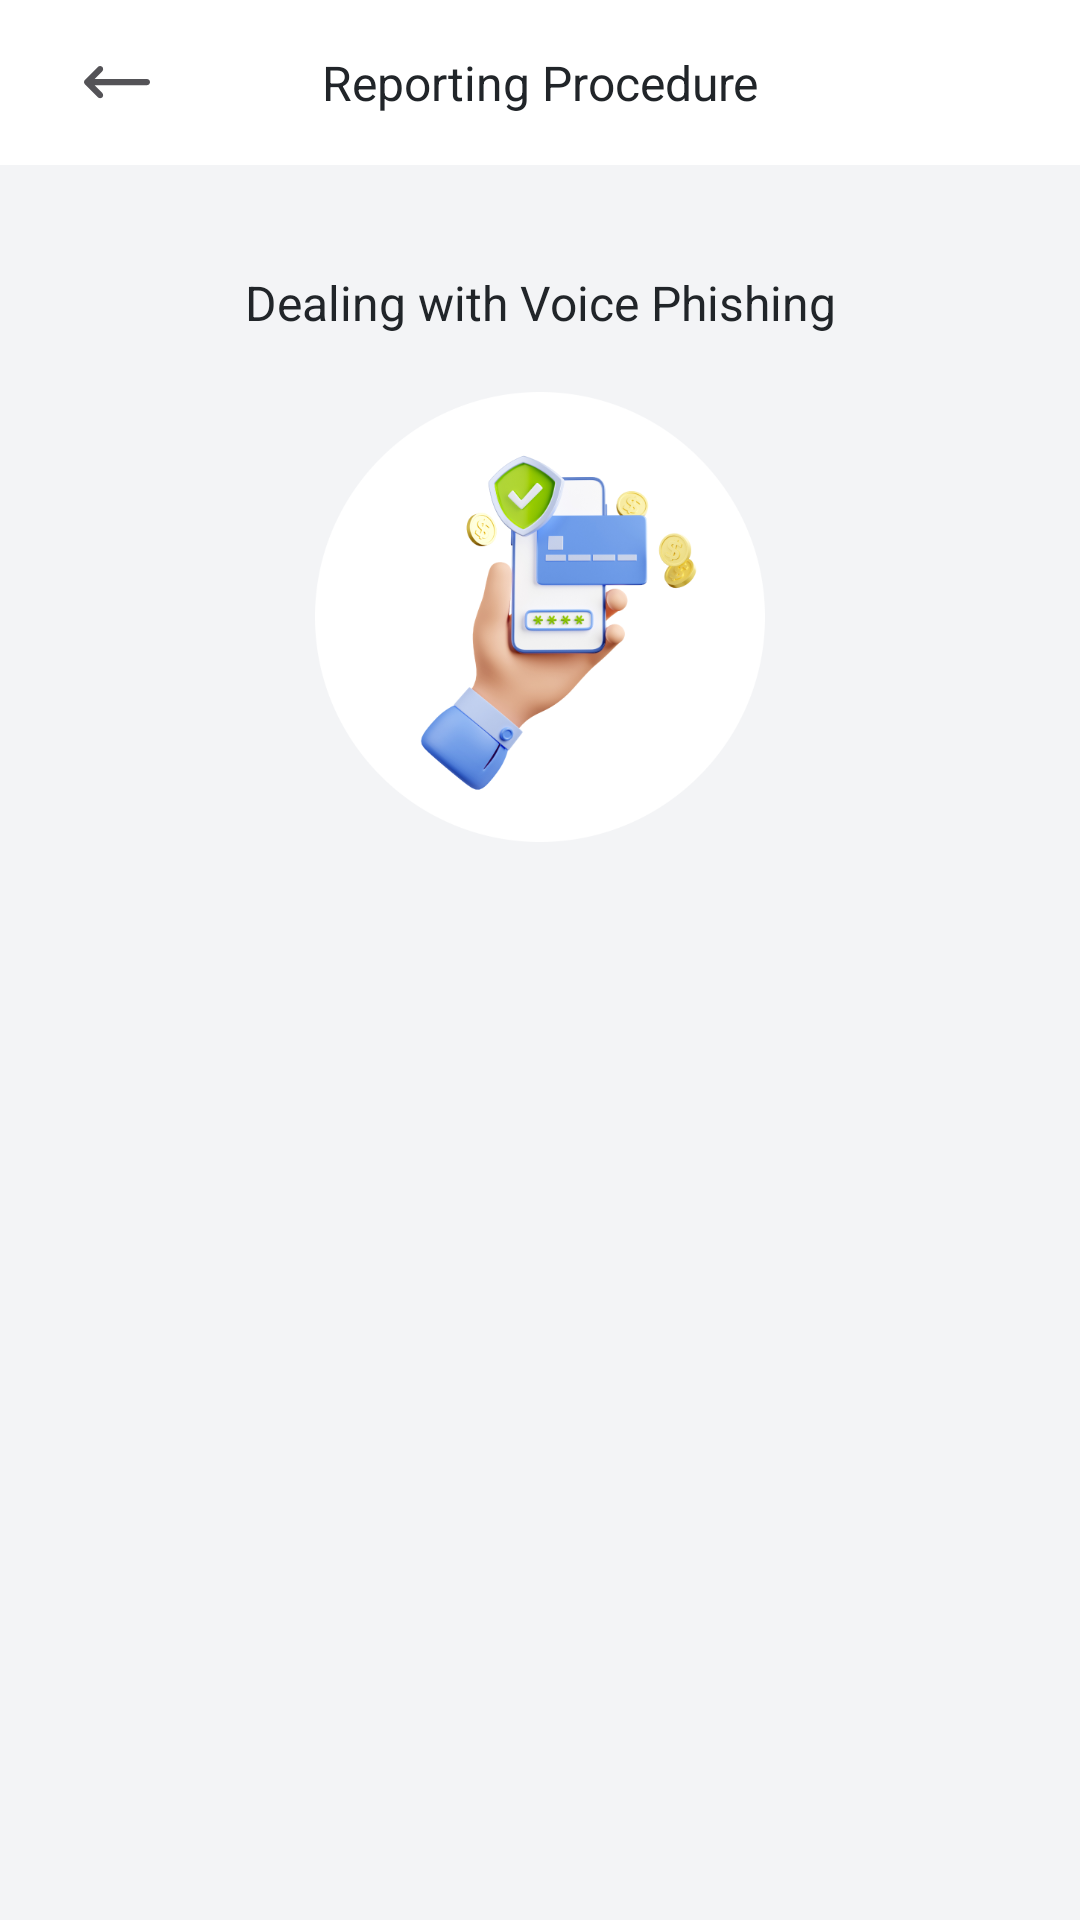

Icon bounding boxes for this 1080w x 1920h phone screenshot, format (x1, y1, x2, y2):
back: (84, 66, 150, 98)
